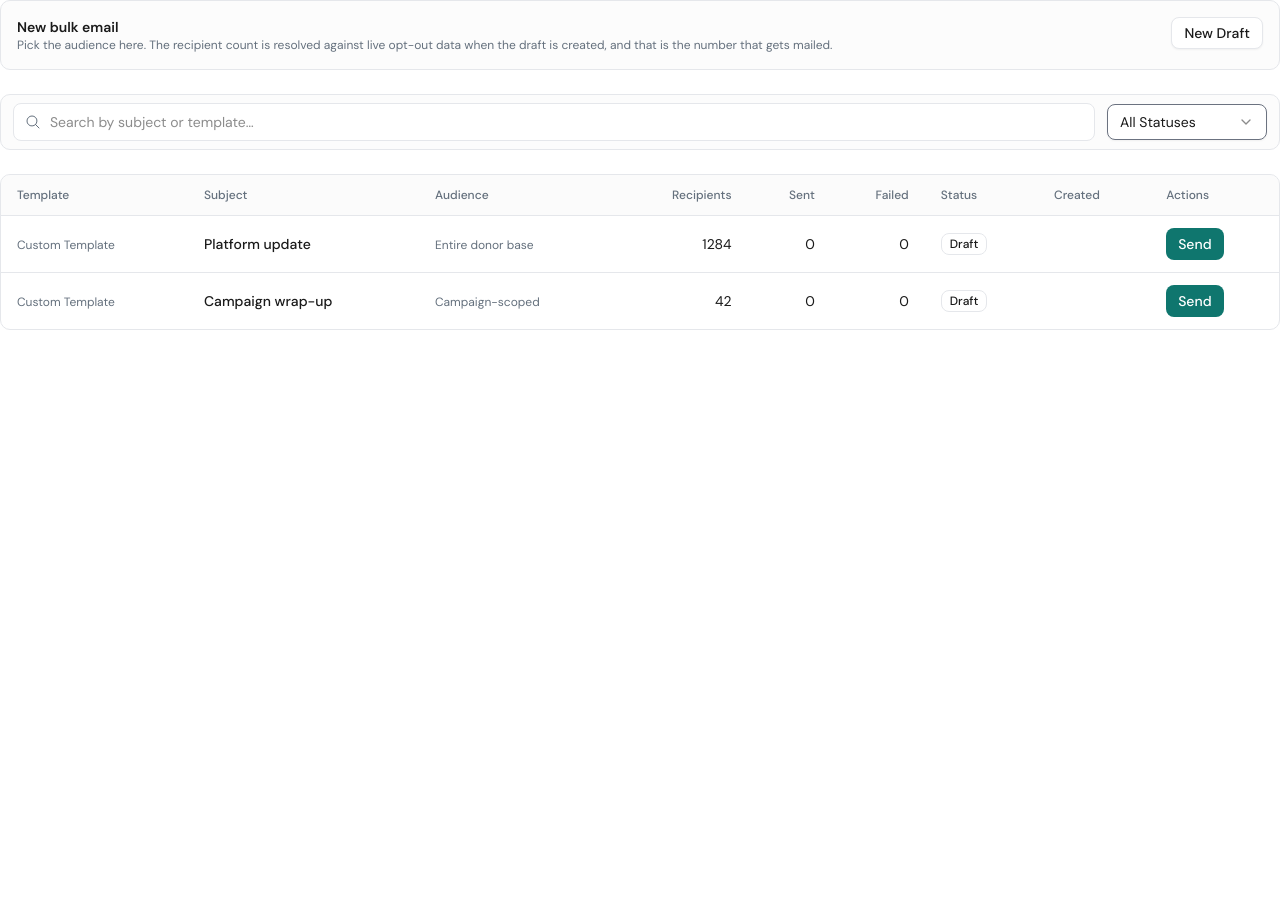
Test: unrecoverable recipient filter › renders the two actionable routes instead of a generic failure
The width and height of the screenshot is (1280, 900).
Expected: the text "Platform update" is shown, [188, 216, 419, 272]
Click the button "Send" in the row of "Campaign wrap-up" at (1195, 301), box [1166, 285, 1224, 317]
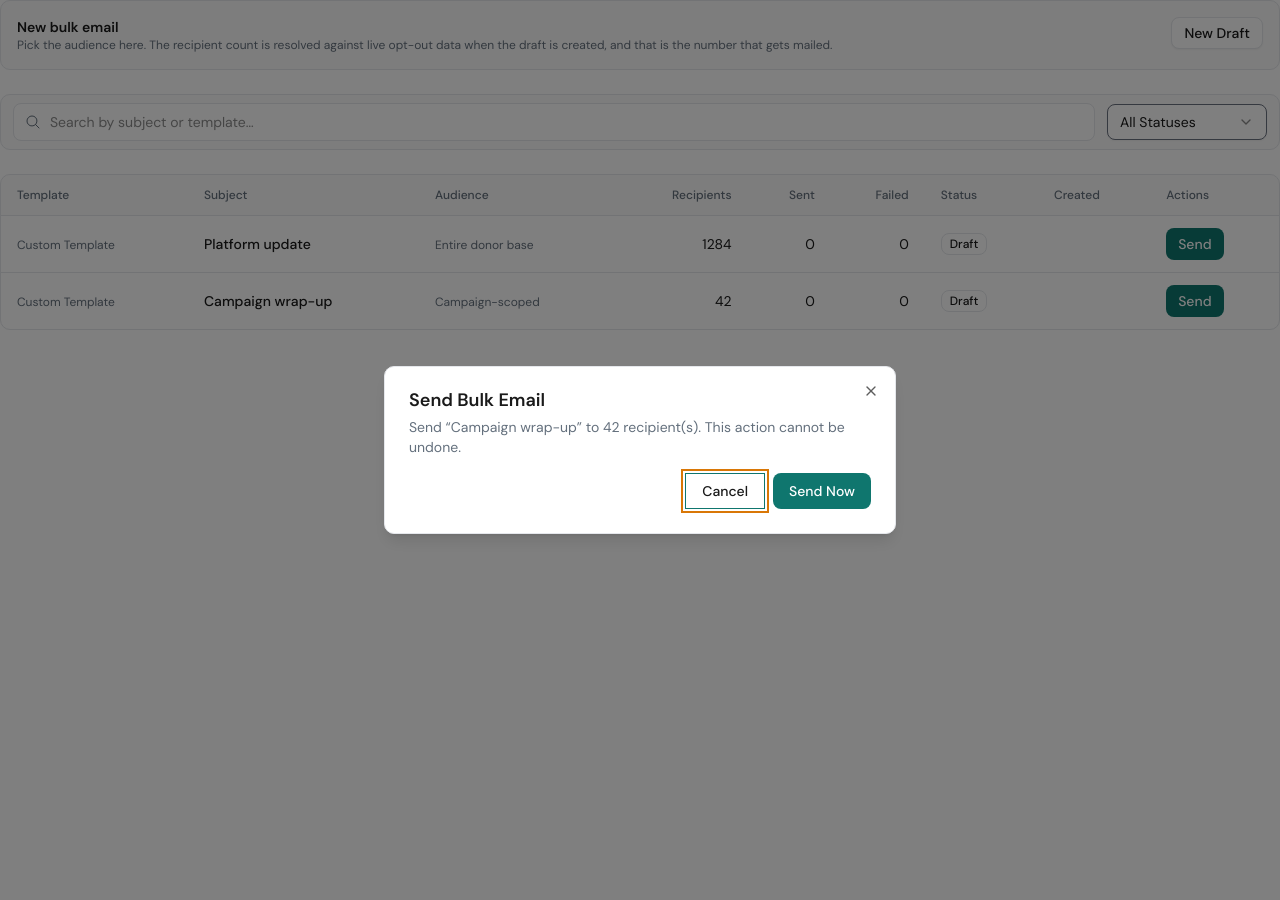
Expected: the heading "Send Bulk Email" is shown, [409, 388, 545, 412]
Click the button "Send Now" at (822, 491), box [773, 473, 871, 509]
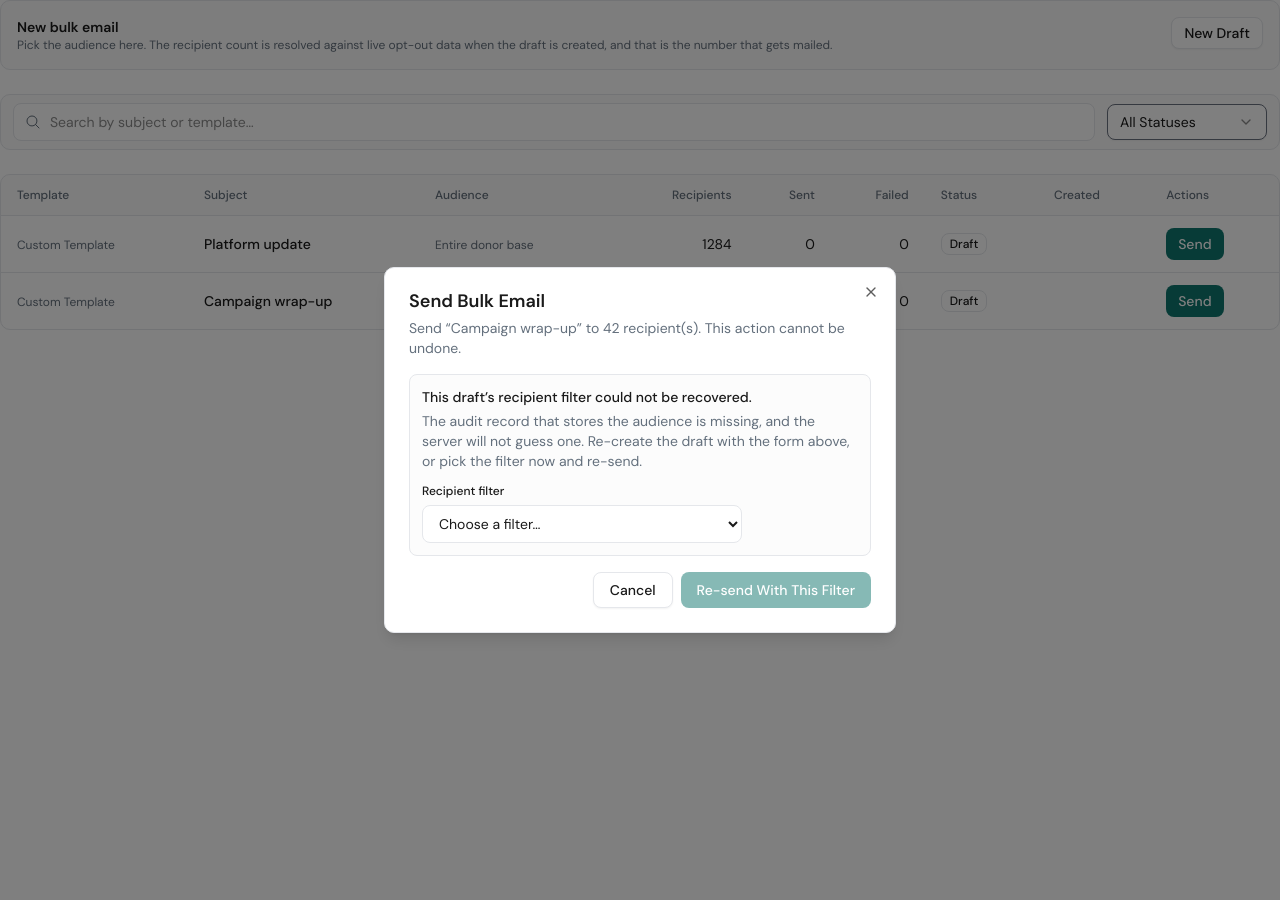
Expected: the text "This draft’s recipient filter could not be recovered." is shown, [422, 388, 752, 406]
Expected: the text "Re-create the draft with the form above, or pick the filter now" is shown, [422, 412, 850, 470]
Expected: the dropdown labelled "Recipient filter" is shown, [422, 505, 742, 543]
